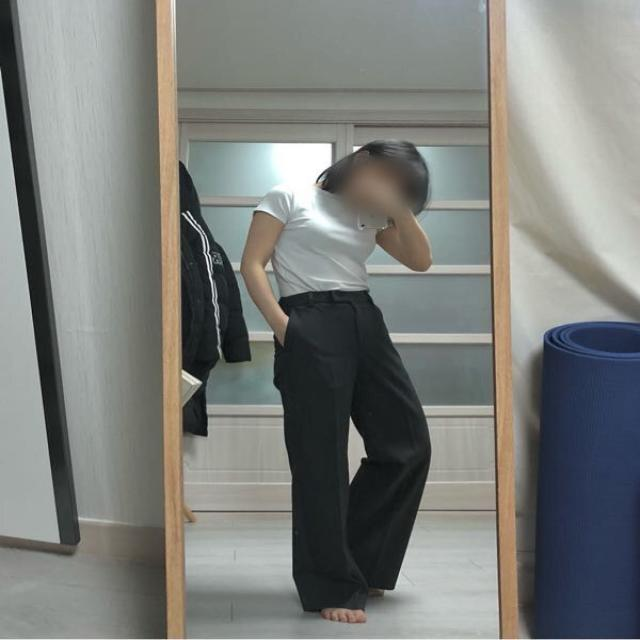shortsleeve: (253, 186, 392, 300)
slacks: (276, 289, 432, 609)
